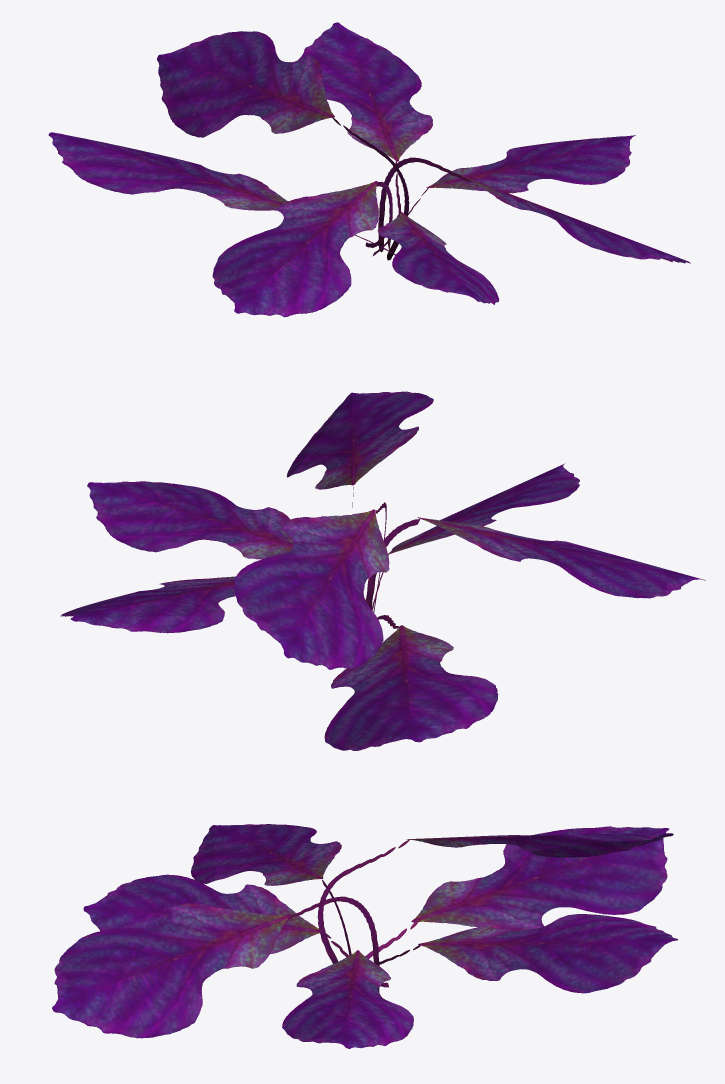
File: Row Root C4.fbx
3 views of the same model, one above another, from view 1: azimuth 30°, elevation 25°; view 2: azimuth 150°, elevation 25°; view 3: azimuth 270°, elevation 25° (orthographic). The views are drawn at different scales.
Visible parts, largest first — view 1: Row Root C4; view 2: Row Root C4; view 3: Row Root C4.
Part boxes in pixels (<box>): Row Root C4: <box>48,22,690,317</box>; Row Root C4: <box>60,391,705,750</box>; Row Root C4: <box>52,824,677,1048</box>.
Size of the model in its own units: 179 by 59.65 by 207.
